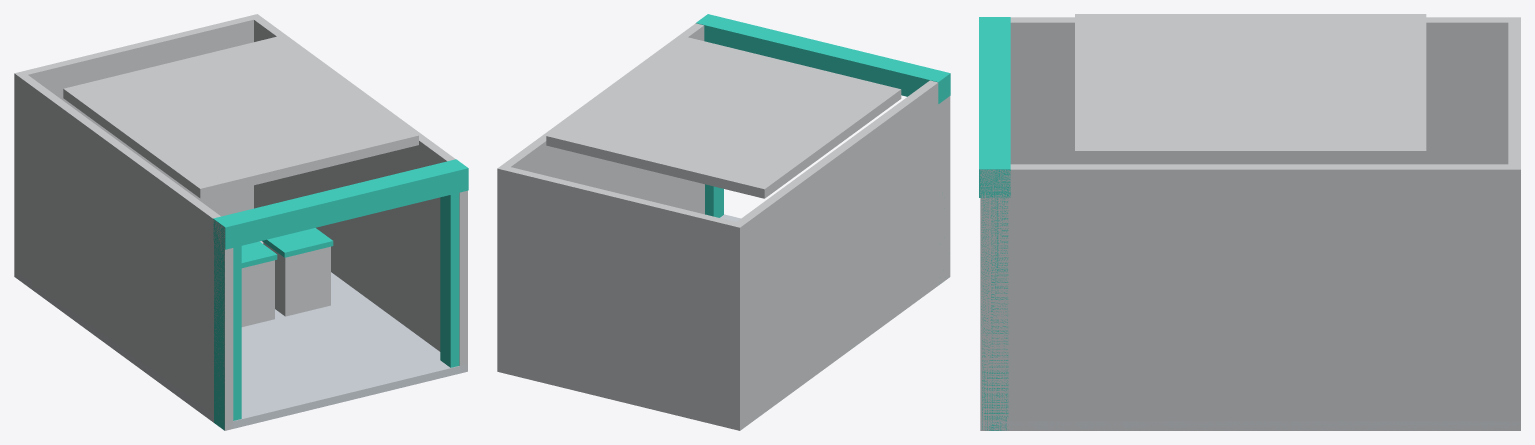
The picture shows the model from 3 angles, left to right: view 1: azimuth 30°, elevation 25°; view 2: azimuth 150°, elevation 25°; view 3: azimuth 270°, elevation 25°; orthographic projection. The views are drawn at different scales.
Visible parts, largest first — view 1: Exhibition Booth Concept; view 2: Exhibition Booth Concept; view 3: Exhibition Booth Concept.
Part boxes in pixels (x1,y1,x2,y2): Exhibition Booth Concept: [14, 14, 468, 430]; Exhibition Booth Concept: [497, 14, 950, 430]; Exhibition Booth Concept: [979, 14, 1520, 430].
Bounding box in the file's own units: 4 × 3.34 × 6.02.
